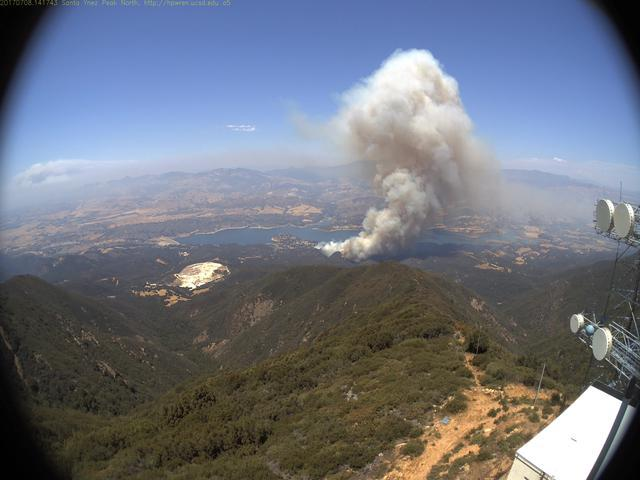smoke: (306, 44, 503, 262)
